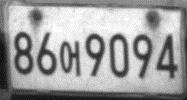0: (109, 33, 129, 78)
4: (154, 33, 178, 80)
6: (35, 32, 57, 75)
8: (12, 30, 34, 75)
9: (132, 34, 154, 79), (84, 33, 106, 77)
어: (59, 40, 81, 77)
